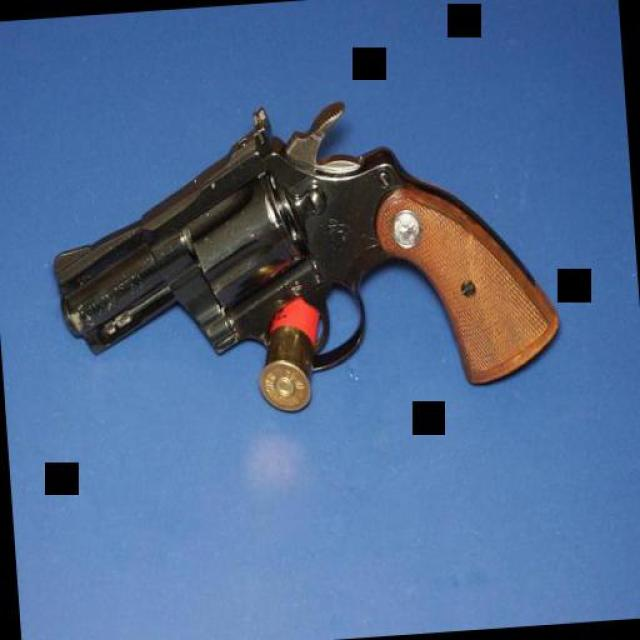gun: (40, 76, 569, 470)
